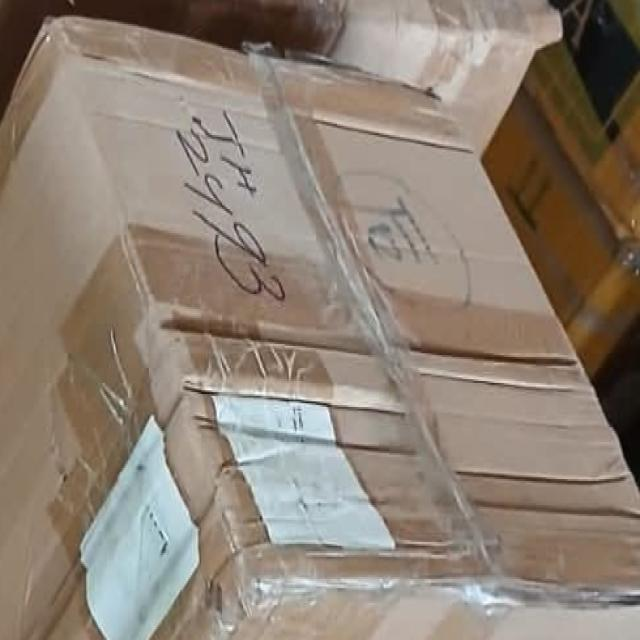carton_box: (2, 0, 640, 640)
package_damage: (155, 305, 584, 365), (201, 22, 458, 106), (387, 564, 640, 627)
